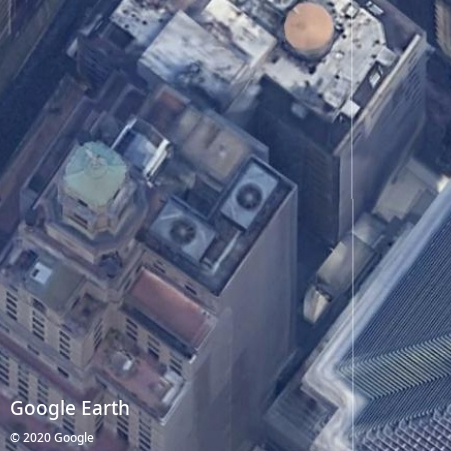Vent: (237, 184, 263, 211), (169, 220, 196, 245)
